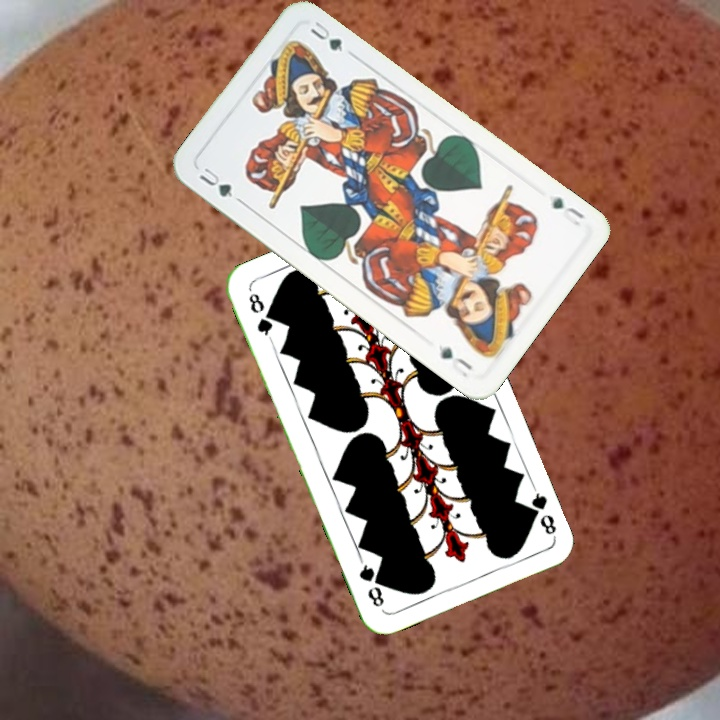G8: (522, 483, 559, 539), (244, 289, 275, 343)
GU: (195, 163, 235, 200), (548, 193, 587, 228)
